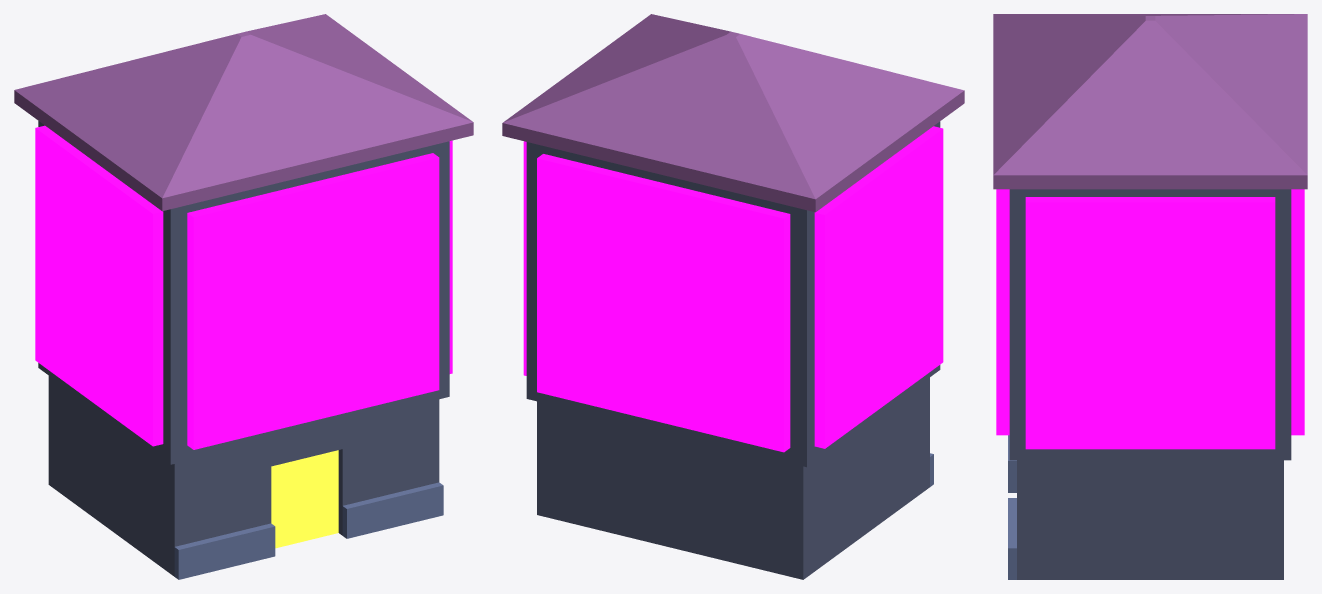
Rendered from purpleAdsTotem.fbx.
The picture shows the model from 3 angles, left to right: view 1: azimuth 30°, elevation 25°; view 2: azimuth 150°, elevation 25°; view 3: azimuth 270°, elevation 25°; orthographic projection. The views are drawn at different scales.
Parts seen in each view (by area): view 1: lilazAdsTotem; view 2: lilazAdsTotem; view 3: lilazAdsTotem.
Boxes of the visible parts, left/top/right/bottom form: lilazAdsTotem: left=14, top=14, right=473, bottom=579; lilazAdsTotem: left=502, top=14, right=964, bottom=579; lilazAdsTotem: left=993, top=14, right=1307, bottom=579.
Bounding box in the file's own units: 1248 × 1777 × 1027.
